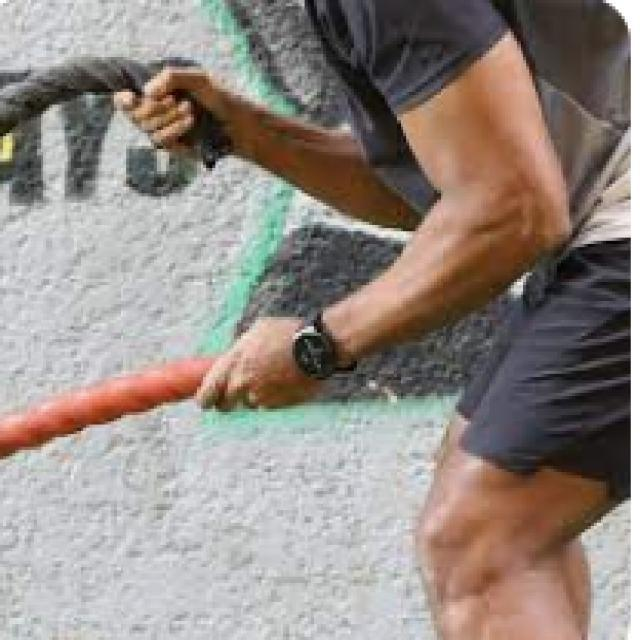Watch: (286, 312, 358, 382)
